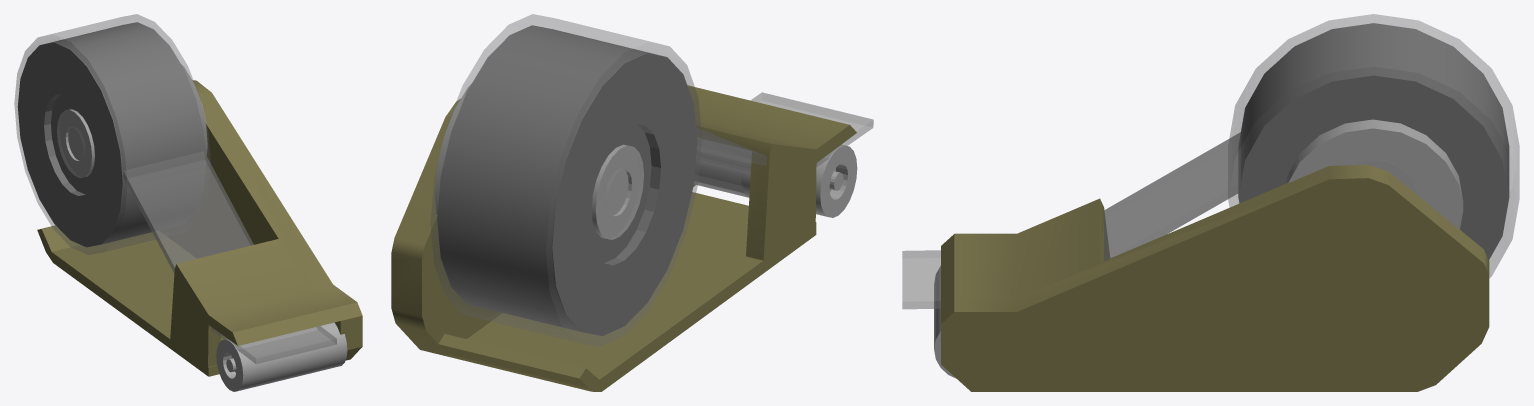
Rendered from TapeRoller.fbx.
3 views of the same model, side by side, from view 1: azimuth 30°, elevation 25°; view 2: azimuth 150°, elevation 25°; view 3: azimuth 270°, elevation 25° (orthographic). The views are drawn at different scales.
Visible parts, largest first — view 1: TapeRoller; view 2: TapeRoller; view 3: TapeRoller.
Part boxes in pixels (bbox=[...]): TapeRoller: bbox=[14, 14, 362, 391]; TapeRoller: bbox=[391, 14, 873, 391]; TapeRoller: bbox=[902, 14, 1519, 391].
Bounding box in the file's own units: 2.05 × 3.67 × 6.83.
